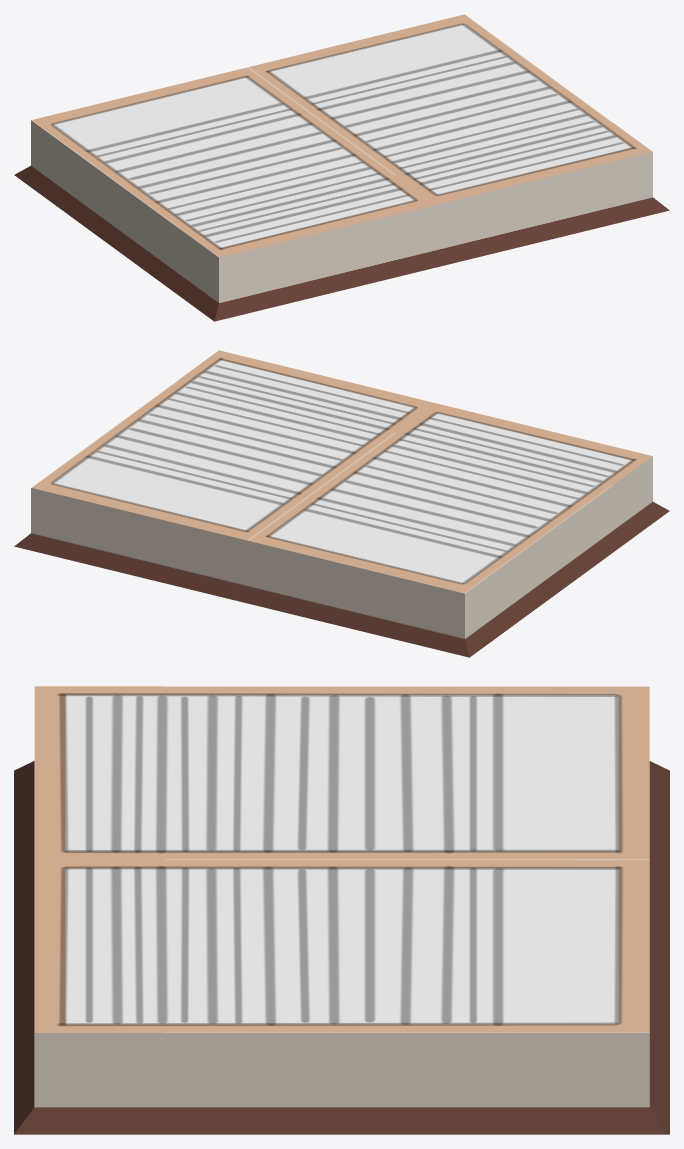
Rendered from book.fbx.
The picture shows the model from 3 angles, top to bottom: view 1: azimuth 30°, elevation 25°; view 2: azimuth 150°, elevation 25°; view 3: azimuth 270°, elevation 25°; orthographic projection. The views are drawn at different scales.
Visible parts, largest first — view 1: Cube; view 2: Cube; view 3: Cube.
Boxes of the visible parts, x1=… form: Cube: x1=14, y1=14, x2=669, y2=321; Cube: x1=14, y1=350, x2=669, y2=657; Cube: x1=14, y1=686, x2=669, y2=1134.
Size of the model in its own units: 420 by 50 by 320.
1 material, 1 textured.
